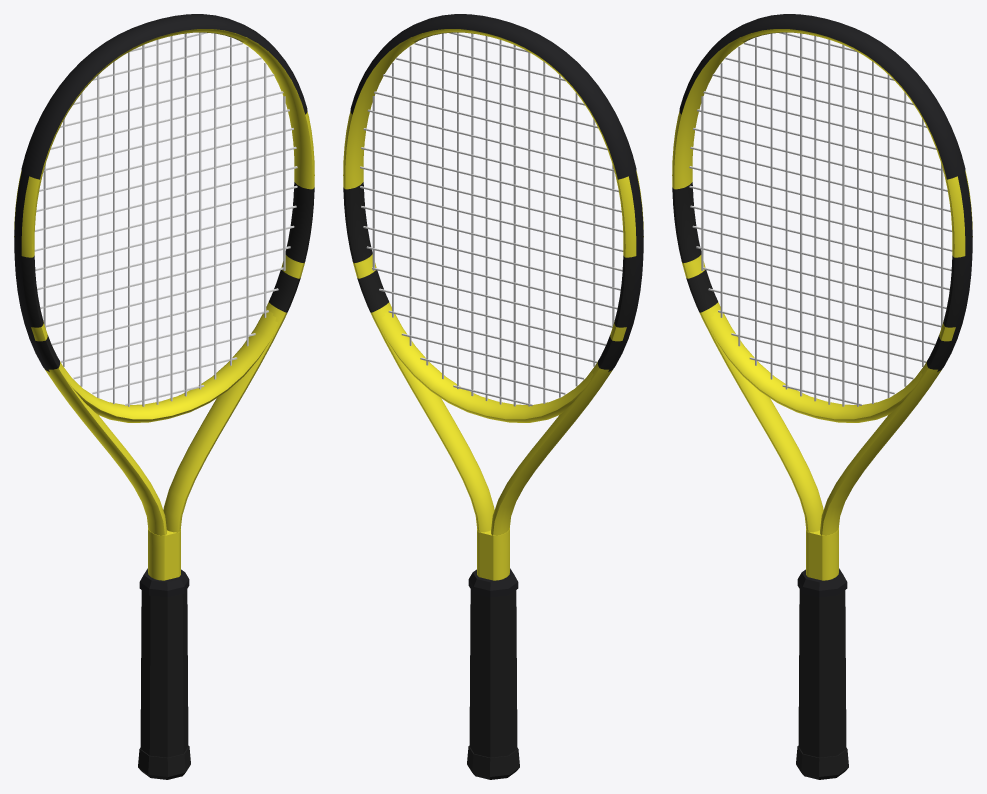
Rendered from babolat-pure-aero-junior-26-2019gen.glb.
The picture shows the model from 3 angles, left to right: view 1: azimuth 30°, elevation 25°; view 2: azimuth 150°, elevation 25°; view 3: azimuth 330°, elevation 25°; orthographic projection.
Visible parts, largest first — view 1: frame, strings_mains, strings_crosses, grip, bumper, grommets, butt_cap, collar; view 2: frame, strings_mains, strings_crosses, grip, bumper, grommets, butt_cap, collar; view 3: frame, strings_mains, strings_crosses, grip, bumper, grommets, butt_cap, collar.
Part boxes in pixels (bbox=[...]): frame: bbox=[14, 29, 314, 580]; strings_mains: bbox=[43, 32, 285, 406]; strings_crosses: bbox=[34, 32, 297, 405]; grip: bbox=[140, 589, 188, 757]; bumper: bbox=[21, 14, 307, 179]; grommets: bbox=[14, 171, 49, 371]; butt_cap: bbox=[138, 745, 190, 779]; collar: bbox=[139, 568, 189, 597]; frame: bbox=[343, 29, 643, 580]; strings_mains: bbox=[372, 32, 614, 406]; strings_crosses: bbox=[360, 32, 623, 406]; grip: bbox=[469, 589, 517, 757]; bumper: bbox=[350, 14, 636, 179]; grommets: bbox=[608, 171, 643, 371]; butt_cap: bbox=[467, 745, 519, 779]; collar: bbox=[468, 568, 518, 597]; frame: bbox=[672, 29, 972, 580]; strings_mains: bbox=[701, 32, 943, 406]; strings_crosses: bbox=[689, 32, 952, 405]; grip: bbox=[798, 589, 846, 757]; bumper: bbox=[679, 14, 965, 179]; grommets: bbox=[937, 171, 972, 371]; butt_cap: bbox=[796, 745, 848, 779]; collar: bbox=[797, 568, 847, 597].
Size of the model in its own units: 0.2718 by 0.6607 by 0.0396.
